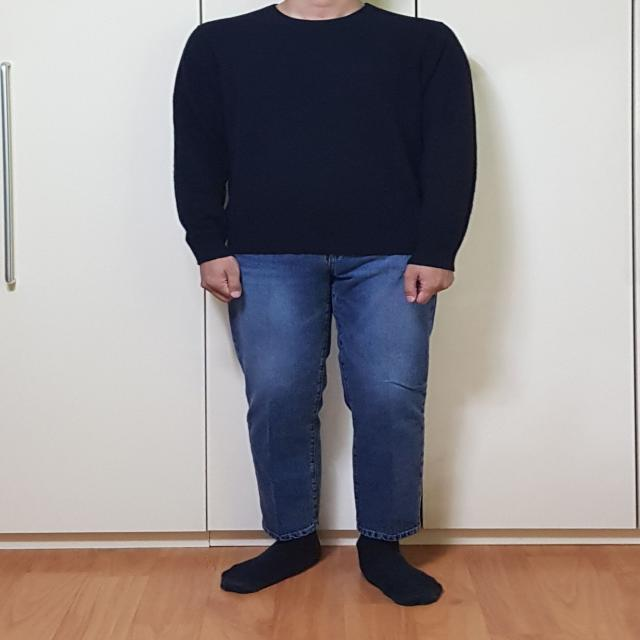denimpants: (229, 250, 438, 541)
longsleeve: (170, 0, 479, 272)
